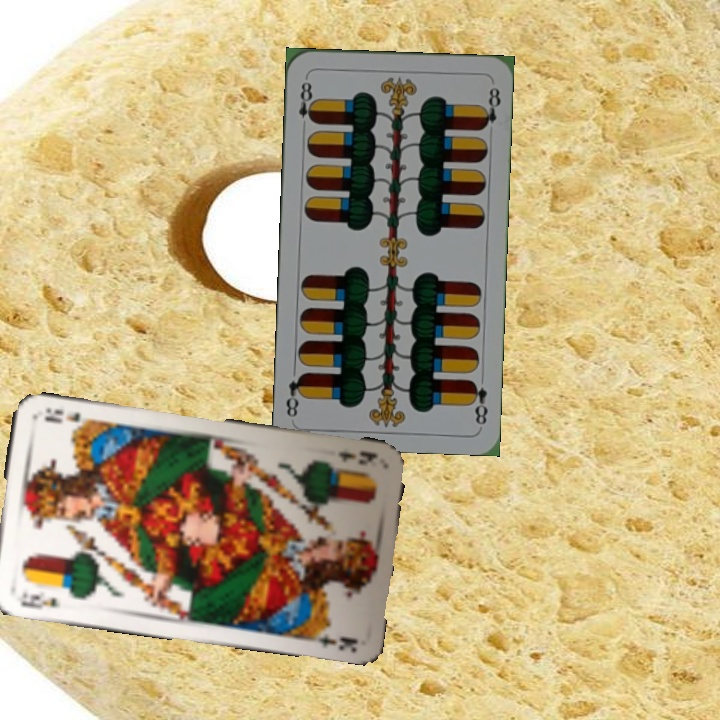E8: (295, 73, 318, 132), (466, 376, 491, 428)
EK: (10, 587, 62, 612), (333, 447, 380, 467)
